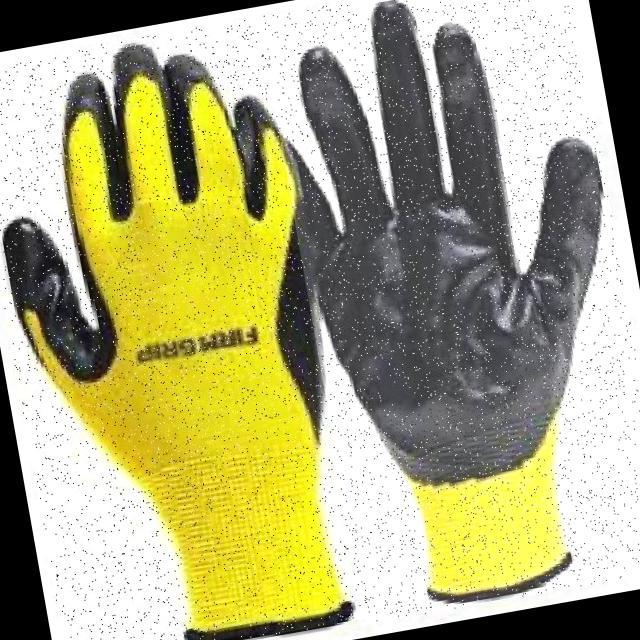Gloves: (0, 10, 396, 640), (258, 0, 640, 623)
